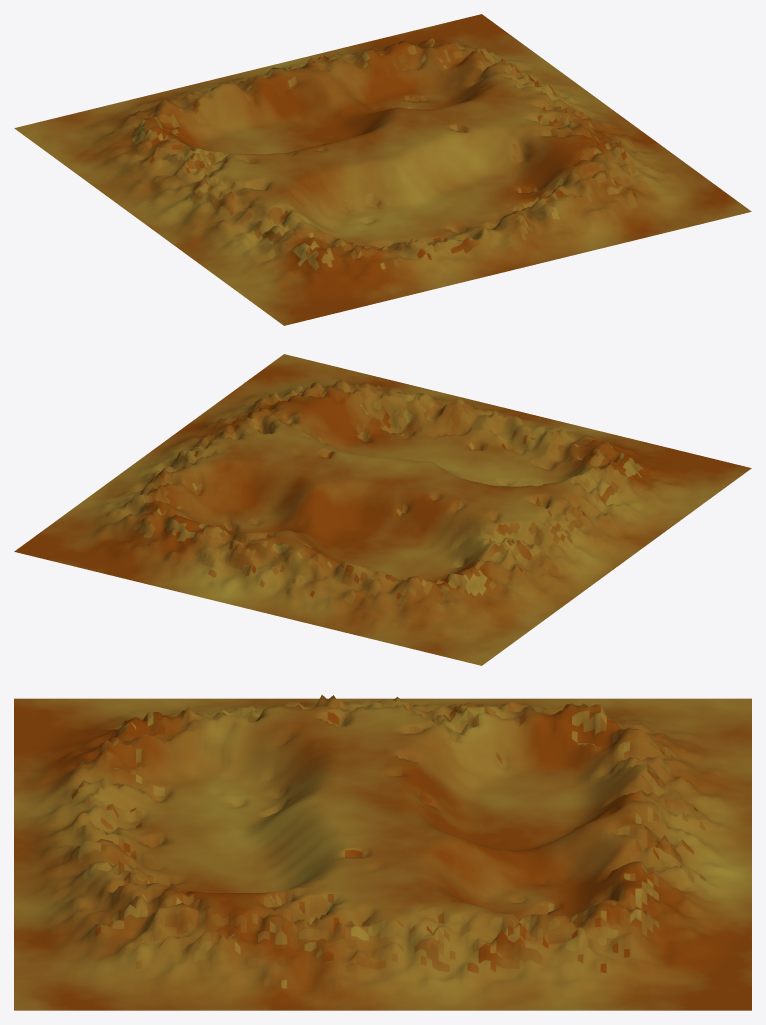
File: Landscape2.gltf
The picture shows the model from 3 angles, top to bottom: view 1: azimuth 30°, elevation 25°; view 2: azimuth 150°, elevation 25°; view 3: azimuth 270°, elevation 25°; orthographic projection. The views are drawn at different scales.
Visible parts, largest first — view 1: Landscape2-col; view 2: Landscape2-col; view 3: Landscape2-col.
Part boxes in pixels (x1=…): Landscape2-col: x1=14, y1=14, x2=751, y2=325; Landscape2-col: x1=14, y1=354, x2=751, y2=665; Landscape2-col: x1=14, y1=695, x2=751, y2=1010.
Bounding box in the file's own units: 2 × 0.1536 × 2.
Materials: 1 (1 with a texture image).
